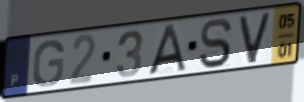2: (67, 32, 99, 88)
3: (115, 29, 145, 79)
A: (147, 23, 188, 78)
G: (31, 38, 66, 89)
S: (197, 17, 235, 71)
V: (237, 10, 273, 66)
